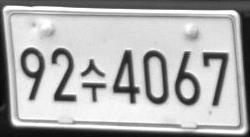0: (143, 49, 169, 104)
2: (50, 46, 77, 101)
4: (112, 49, 140, 104)
6: (174, 50, 201, 106)
7: (202, 51, 229, 106)
9: (20, 46, 46, 100)
수: (80, 58, 106, 102)
